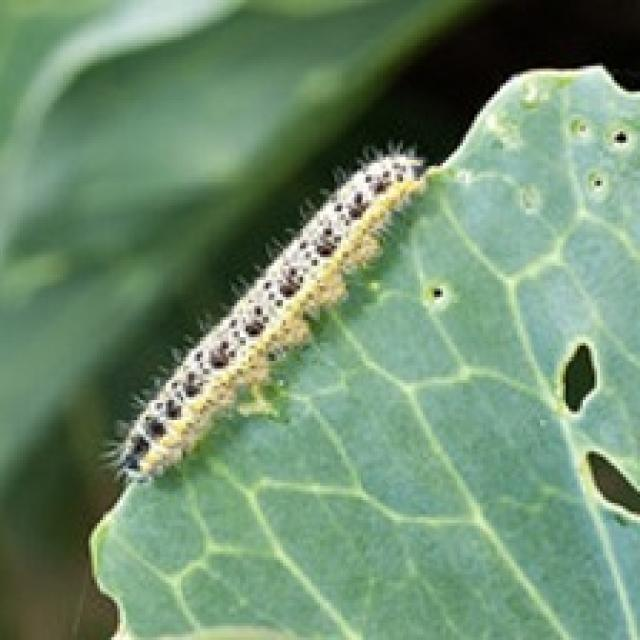Cabbage-worm: (126, 147, 430, 498)
